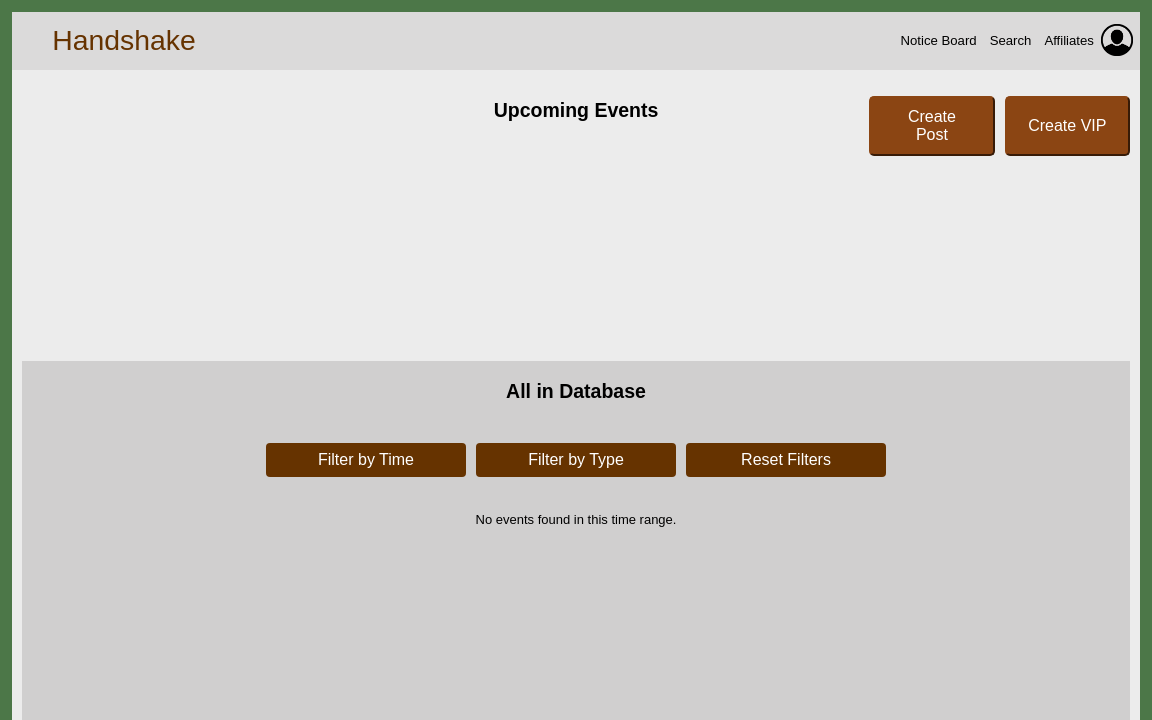
Test: Noticeboard Component › opens and closes the create post modal
The image size is (1152, 720).
What coordinates should you click on to do the following:
click the button "Create Post"
I would click on:
 (932, 126)
Its box is [869,96,995,156].
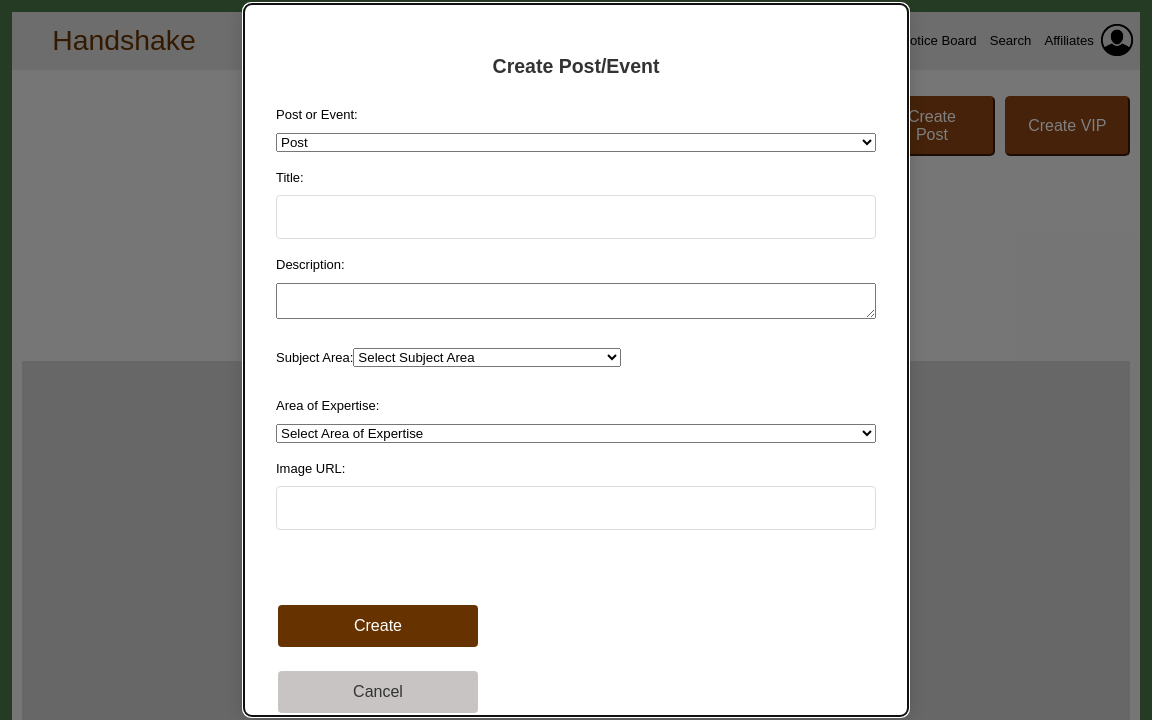
Result: the heading "Create Post/Event" is shown at [492,55,659,77]
What coordinates should you click on to do the following:
click the button "Cancel"
I would click on:
 (378, 692)
Its box is [278,671,478,713].
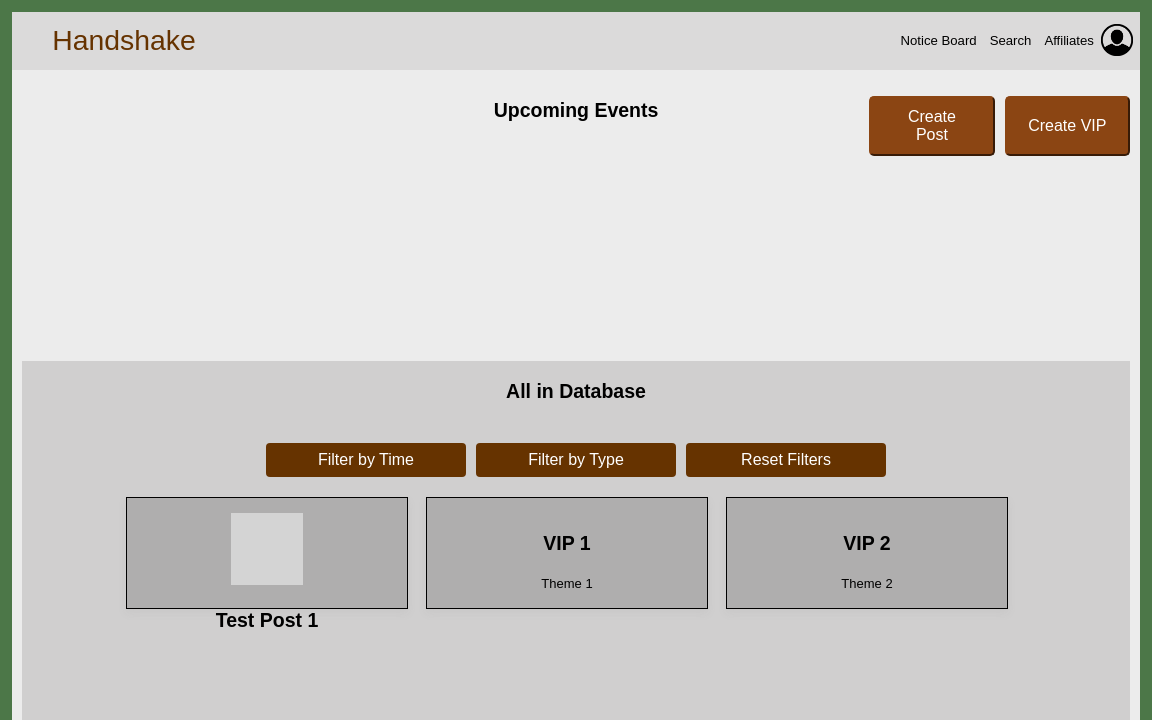
Result: the heading "Create Post/Event" is gone
